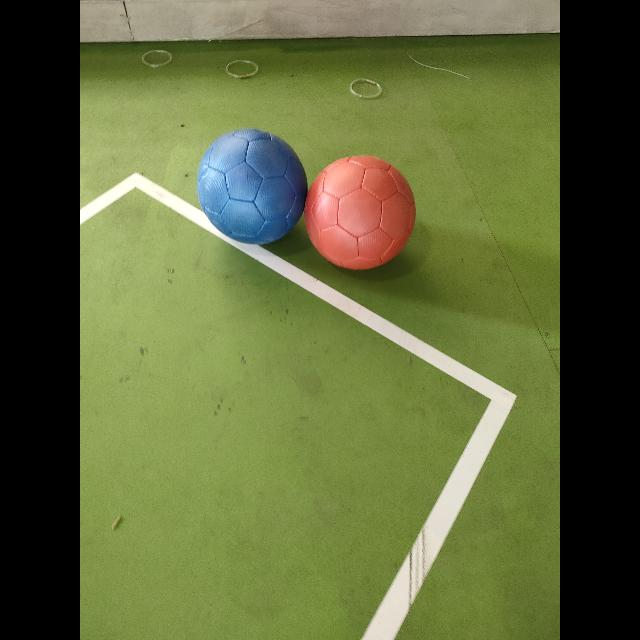B: (197, 128, 307, 244)
R: (305, 156, 415, 268)
